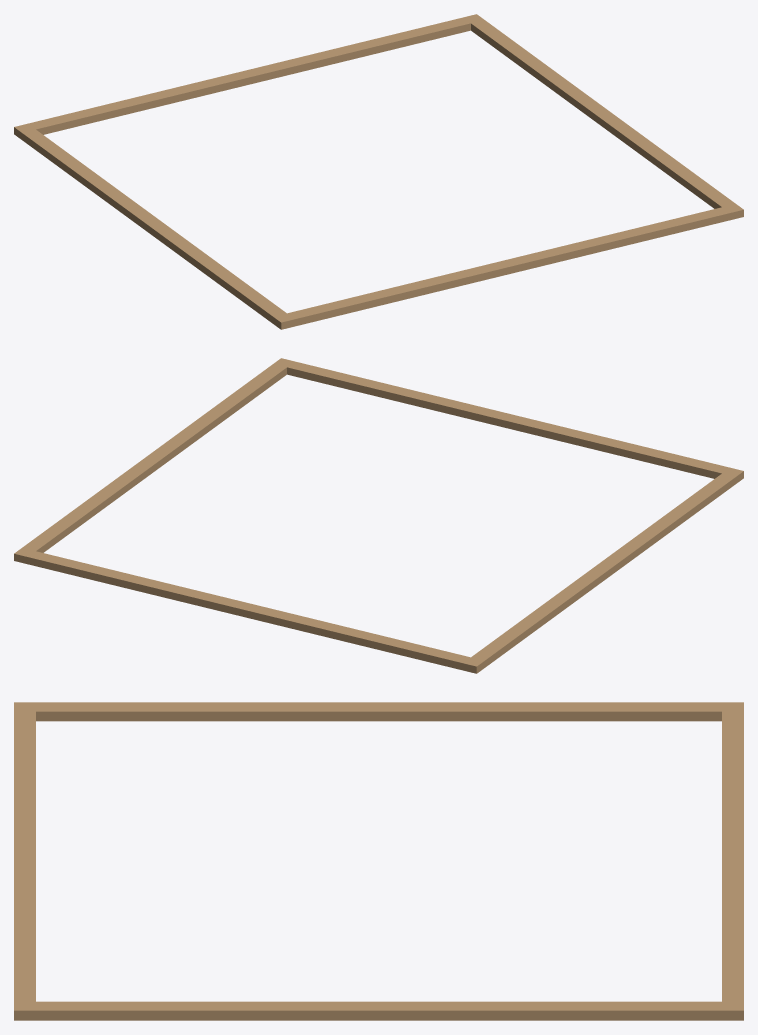
The picture shows the model from 3 angles, top to bottom: view 1: azimuth 30°, elevation 25°; view 2: azimuth 150°, elevation 25°; view 3: azimuth 270°, elevation 25°; orthographic projection. The views are drawn at different scales.
Visible parts, largest first — view 1: Trim; view 2: Trim; view 3: Trim.
Boxes of the visible parts, x1,y1,x2,y2 form: Trim: (14, 14, 743, 329); Trim: (14, 358, 743, 673); Trim: (14, 702, 743, 1020).
Bounding box in the file's own units: 1 × 0.015 × 1.
